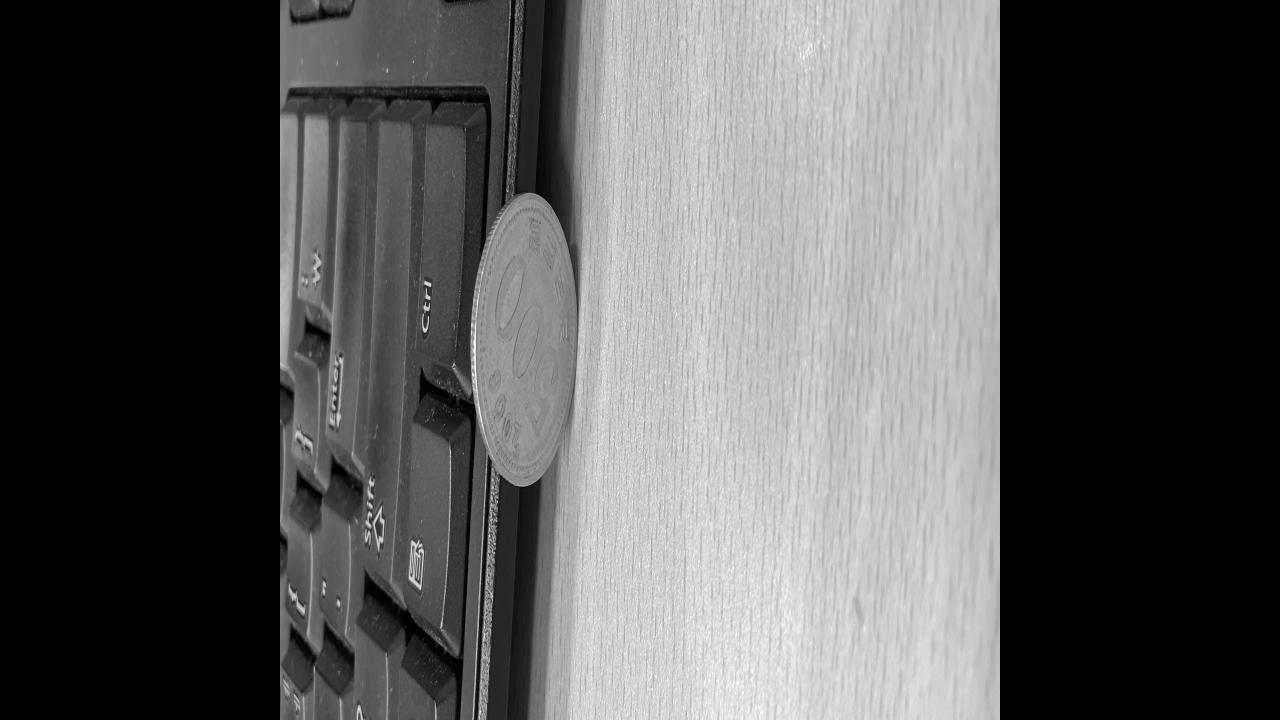coin: (468, 181, 580, 487)
